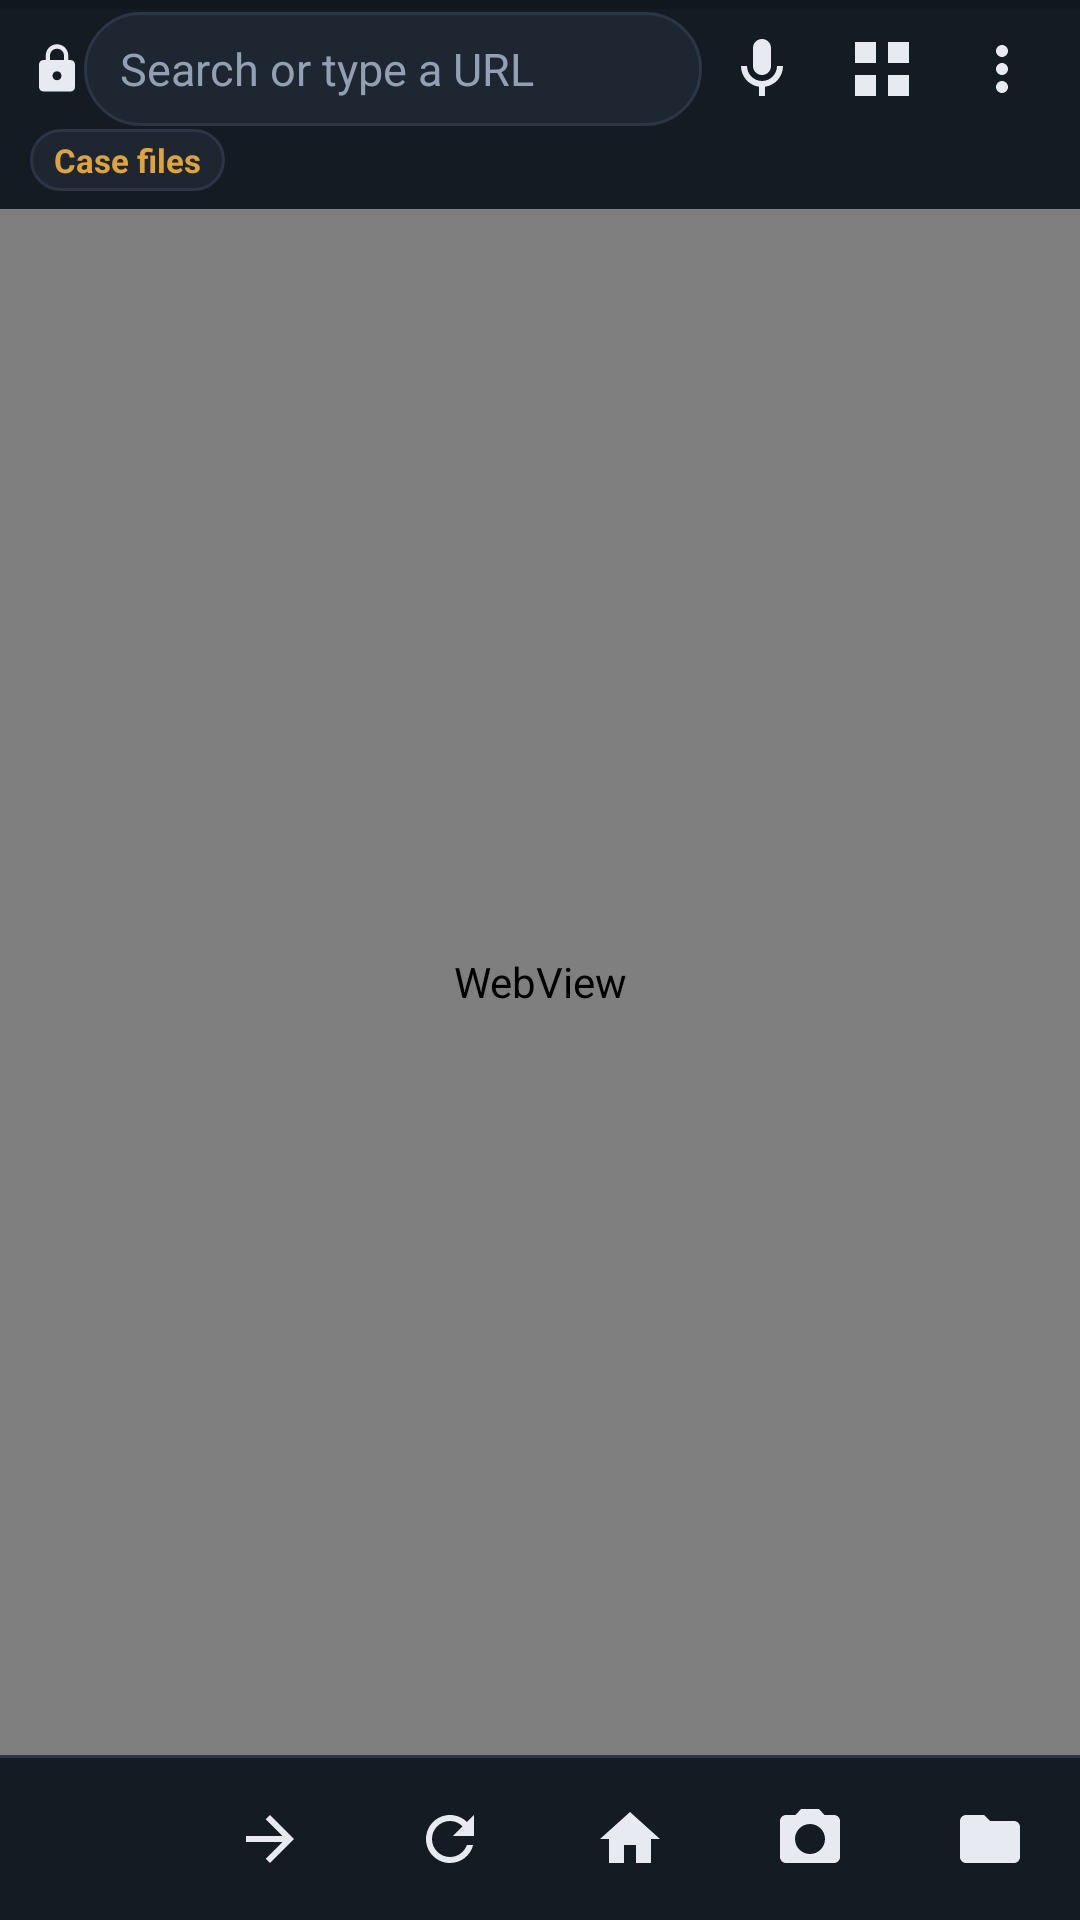

Icons on this 1080*1920 Android screen, each with its box as [x1,y1,x2,y2]:
Capture: [780,1809,840,1863]
Case files: [960,1815,1020,1863]
Forward: [246,1815,294,1863]
Home: [600,1812,660,1863]
More: [996,45,1008,93]
Reload: [426,1815,474,1863]
Speak a search: [741,39,783,96]
Tabs: [855,42,909,96]
